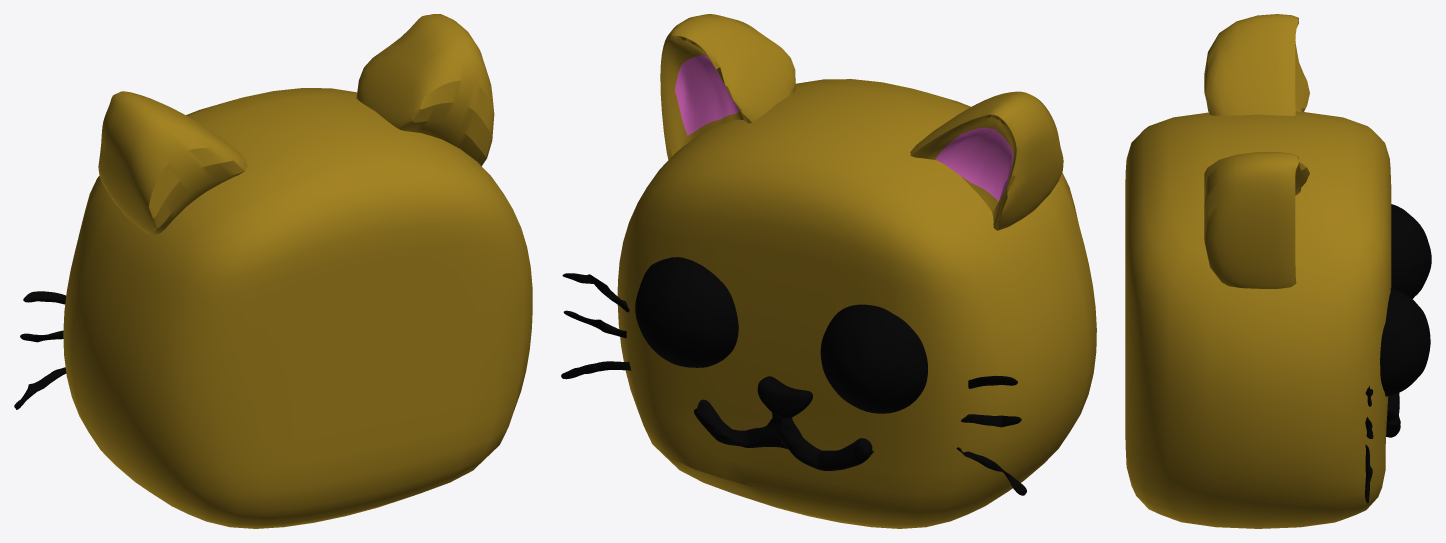
File: CATFinal.fbx
3 renders of one model, left to right at view 1: azimuth 30°, elevation 25°; view 2: azimuth 150°, elevation 25°; view 3: azimuth 270°, elevation 25°, orthographic. The views are drawn at different scales.
Parts seen in each view (by area): view 1: cat; view 2: cat; view 3: cat.
Part boxes in pixels (left/top/right/bottom): cat: left=14, top=14, right=532, bottom=528; cat: left=561, top=14, right=1096, bottom=528; cat: left=1125, top=14, right=1431, bottom=528.
Bounding box in the file's own units: 857 × 772 × 529.
